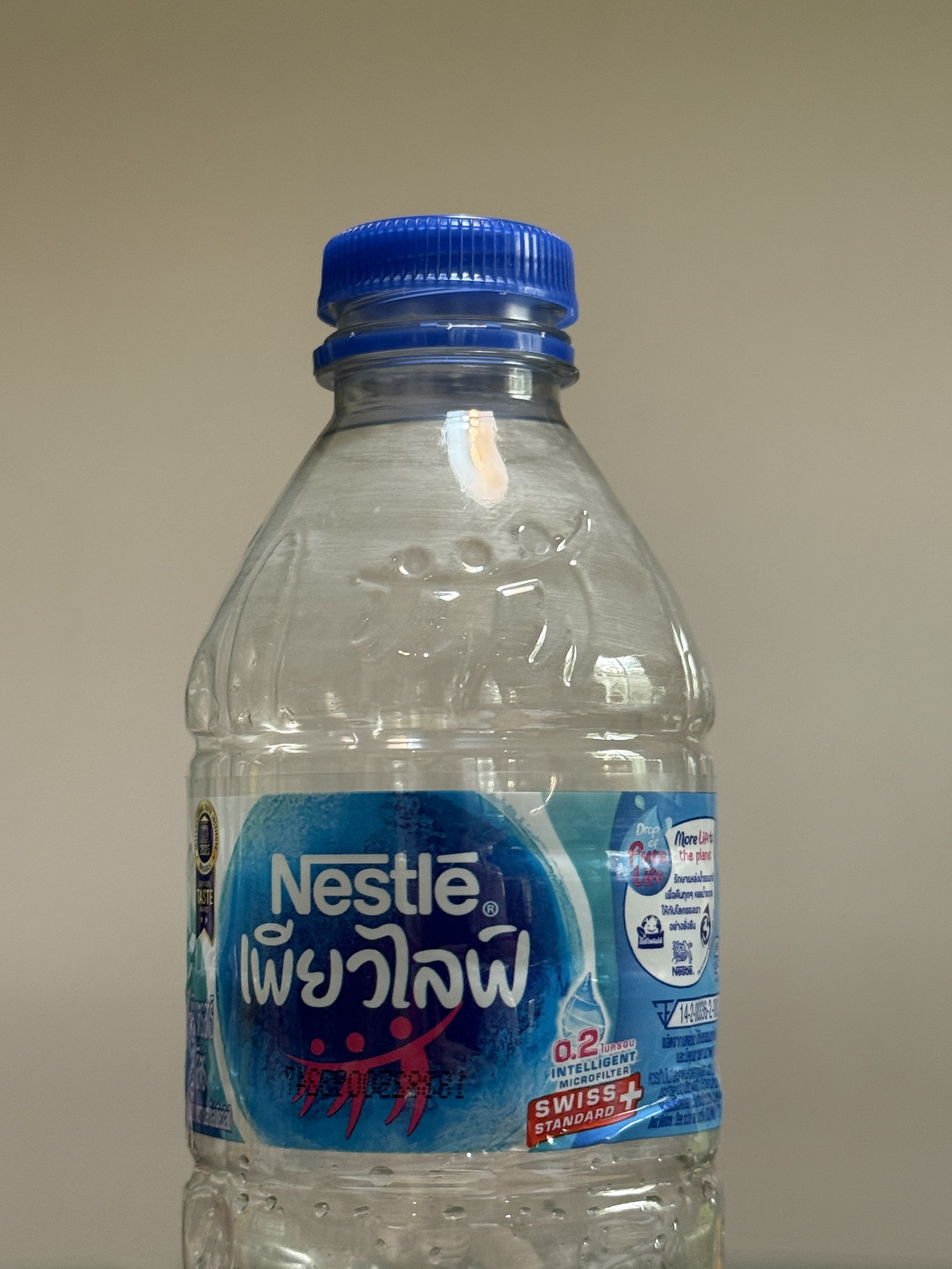half_cap: (303, 205, 586, 388)
